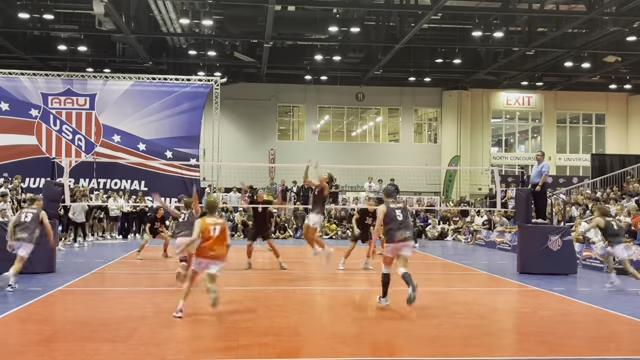alzata: (296, 157, 335, 258)
